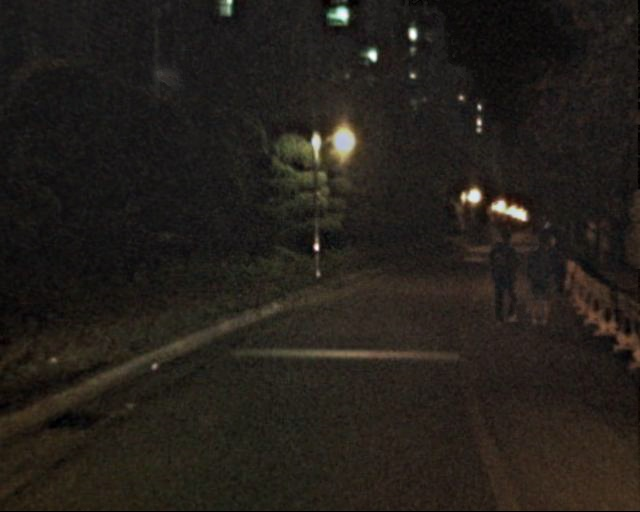person: (481, 229, 522, 328), (516, 237, 555, 332), (540, 231, 567, 298)
